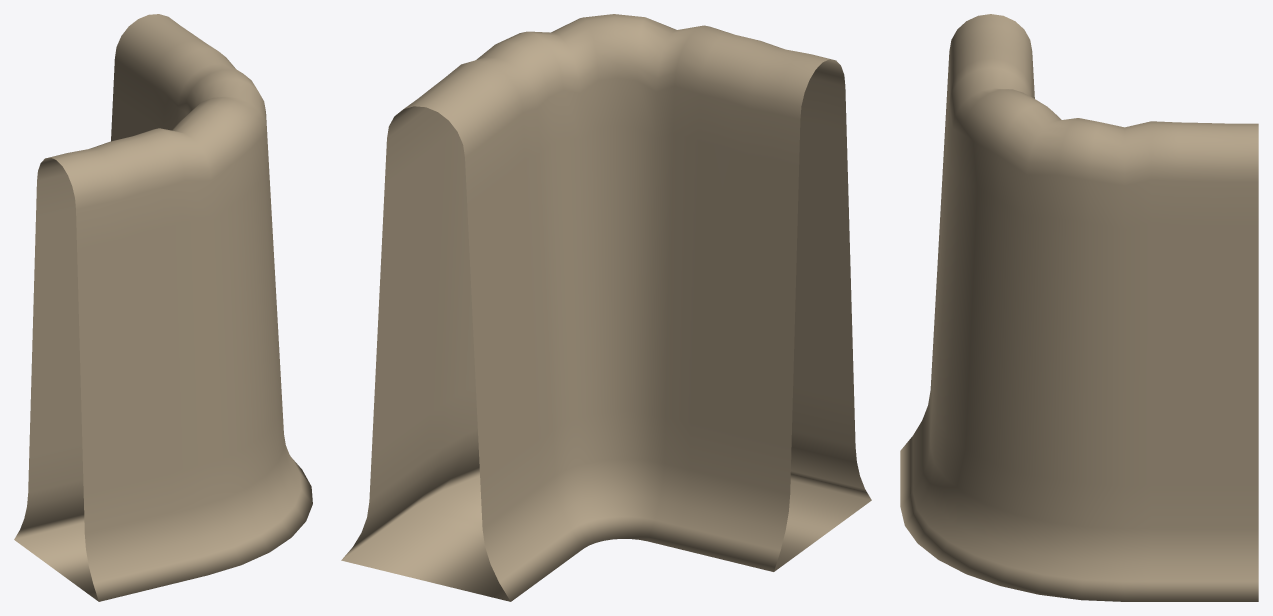
Rendered from KFB_Wall_corner.r1.glb.
3 renders of one model, left to right at view 1: azimuth 30°, elevation 25°; view 2: azimuth 150°, elevation 25°; view 3: azimuth 270°, elevation 25°, orthographic. The views are drawn at different scales.
Parts seen in each view (by area): view 1: KFB_Wall_corner; view 2: KFB_Wall_corner; view 3: KFB_Wall_corner.
Boxes of the visible parts, x1,y1,x2,y2 form: KFB_Wall_corner: (14,14,312,601); KFB_Wall_corner: (341,14,871,601); KFB_Wall_corner: (900,14,1258,601).
Size of the model in its own units: 2.68 by 3.64 by 2.68.
